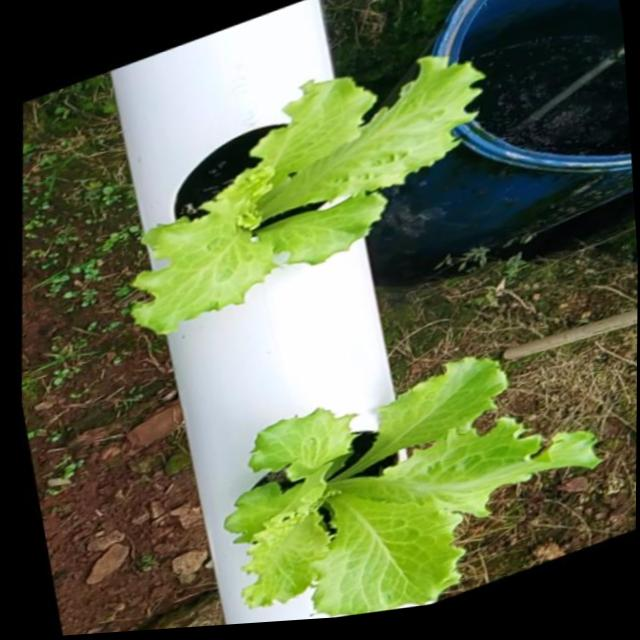Baby: (225, 355, 600, 616), (131, 51, 483, 329)
